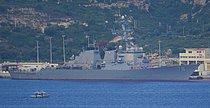MIL_Ship: (7, 24, 201, 82)
